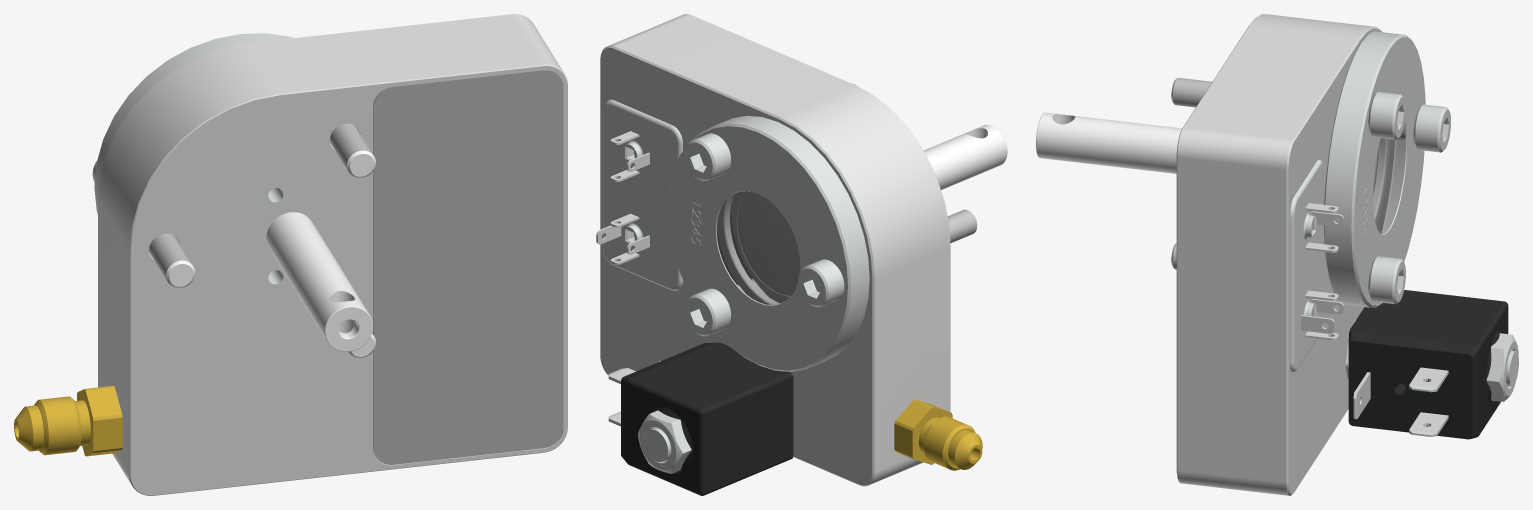
File: COM-Compressor Oil Management.glb
The picture shows the model from 3 angles, left to right: view 1: azimuth 30°, elevation 25°; view 2: azimuth 150°, elevation 25°; view 3: azimuth 270°, elevation 25°; orthographic projection. The views are drawn at different scales.
Parts seen in each view (by area): view 1: BASE_UNIT-3D-Correct coil direction, BASE_UNIT-3D-Correct coil direction.004, BASE_UNIT-3D-Correct coil direction.001, BASE_UNIT-3D-Correct coil direction.003, BASE_UNIT-3D-Correct coil direction.005; view 2: BASE_UNIT-3D-Correct coil direction, BASE_UNIT-3D-Correct coil direction.004, BASE_UNIT-3D-Correct coil direction.002, BASE_UNIT-3D-Correct coil direction.003, BASE_UNIT-3D-Correct coil direction.001, BASE_UNIT-3D-Correct coil direction.005; view 3: BASE_UNIT-3D-Correct coil direction, BASE_UNIT-3D-Correct coil direction.004, BASE_UNIT-3D-Correct coil direction.001, BASE_UNIT-3D-Correct coil direction.002, BASE_UNIT-3D-Correct coil direction.005.
Boxes of the visible parts, box(x1,y1,x2,y2) form: BASE_UNIT-3D-Correct coil direction: box(92, 33, 567, 495); BASE_UNIT-3D-Correct coil direction.004: box(98, 14, 563, 484); BASE_UNIT-3D-Correct coil direction.001: box(266, 212, 373, 351); BASE_UNIT-3D-Correct coil direction.003: box(14, 385, 122, 456); BASE_UNIT-3D-Correct coil direction.005: box(149, 123, 375, 358); BASE_UNIT-3D-Correct coil direction: box(596, 45, 948, 495); BASE_UNIT-3D-Correct coil direction.004: box(609, 14, 950, 484); BASE_UNIT-3D-Correct coil direction.002: box(717, 191, 799, 304); BASE_UNIT-3D-Correct coil direction.003: box(894, 399, 982, 470); BASE_UNIT-3D-Correct coil direction.001: box(923, 124, 1007, 189); BASE_UNIT-3D-Correct coil direction.005: box(852, 83, 977, 242); BASE_UNIT-3D-Correct coil direction: box(1176, 19, 1518, 495); BASE_UNIT-3D-Correct coil direction.004: box(1177, 14, 1394, 495); BASE_UNIT-3D-Correct coil direction.001: box(1036, 112, 1181, 173); BASE_UNIT-3D-Correct coil direction.002: box(1373, 126, 1405, 233); BASE_UNIT-3D-Correct coil direction.005: box(1171, 77, 1212, 269).
Bounding box in the file's own units: 0.6006 × 0.4638 × 0.5732.
